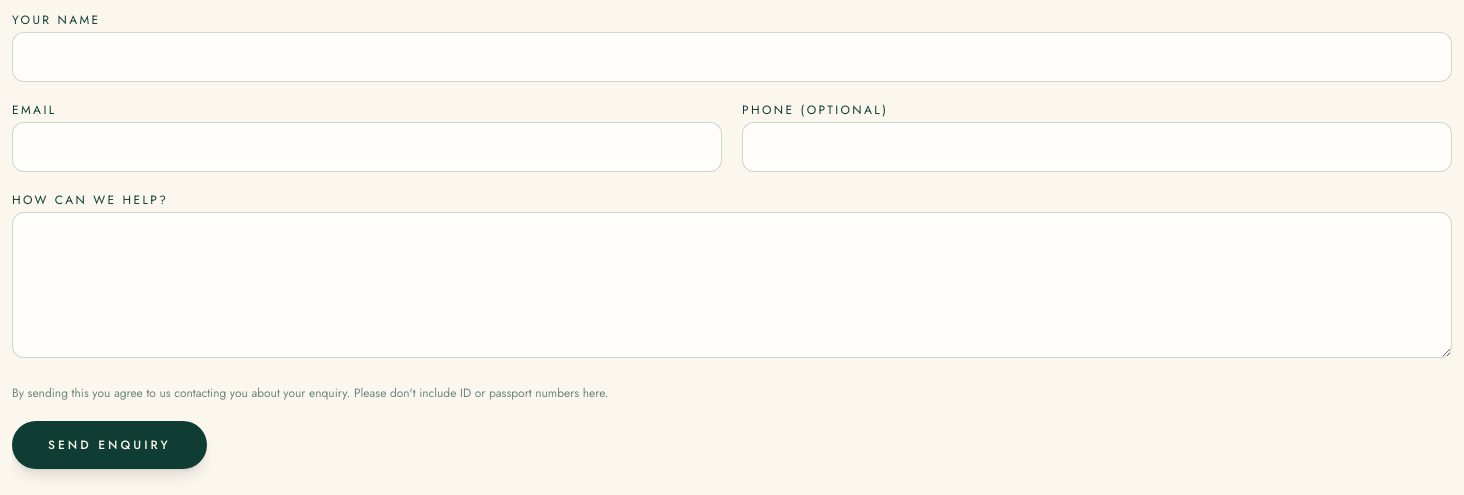
Test: shows a thank-you message after a successful send
In the field labelled "Your name": (732, 57) [12,32,1452,82], type "Jane Doe"
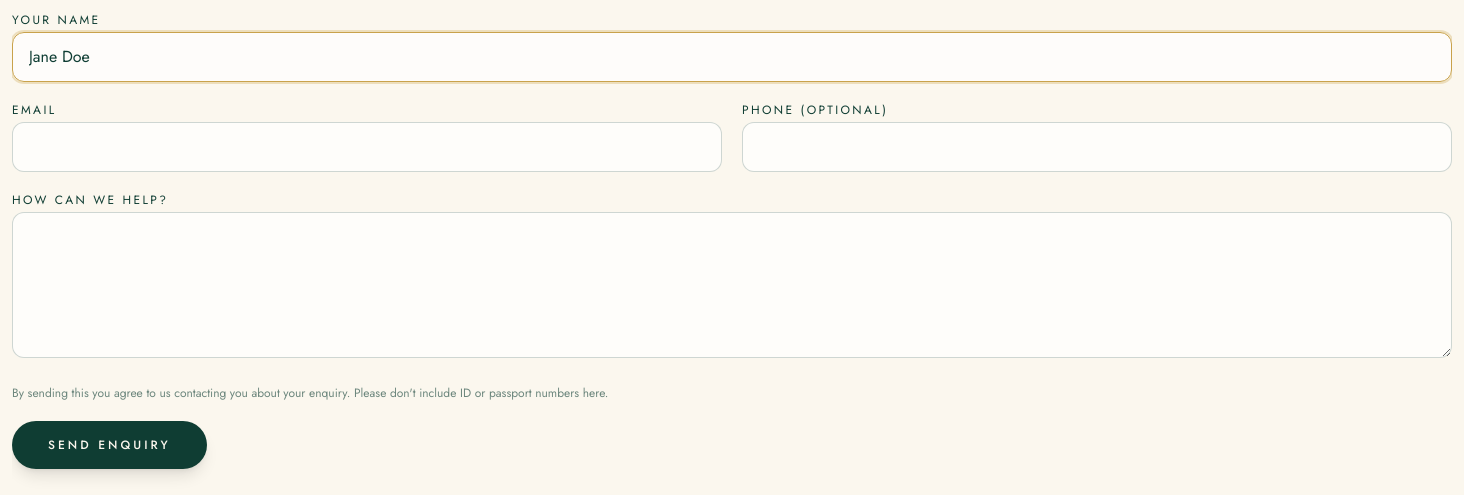
In the field labelled "Email": (367, 147) [12,122,722,172], type "jane@example.com"
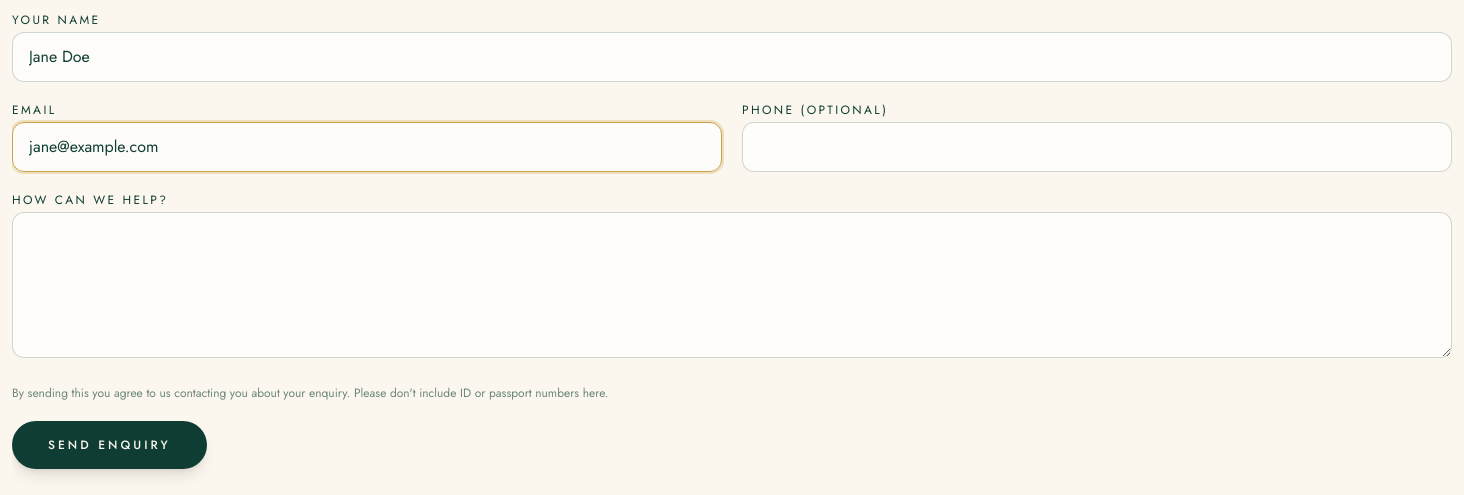
In the text box labelled "How can we help?": (732, 285) [12,212,1452,358], type "I would like to book flights."
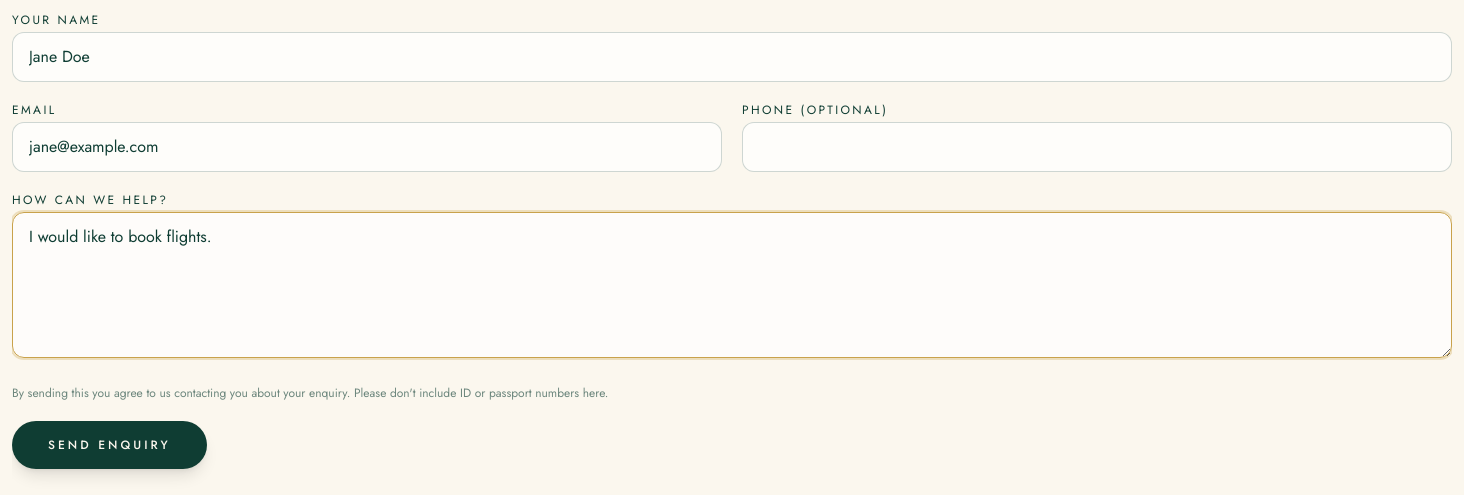
Click the button "Send enquiry": (109, 445) [12,421,207,469]
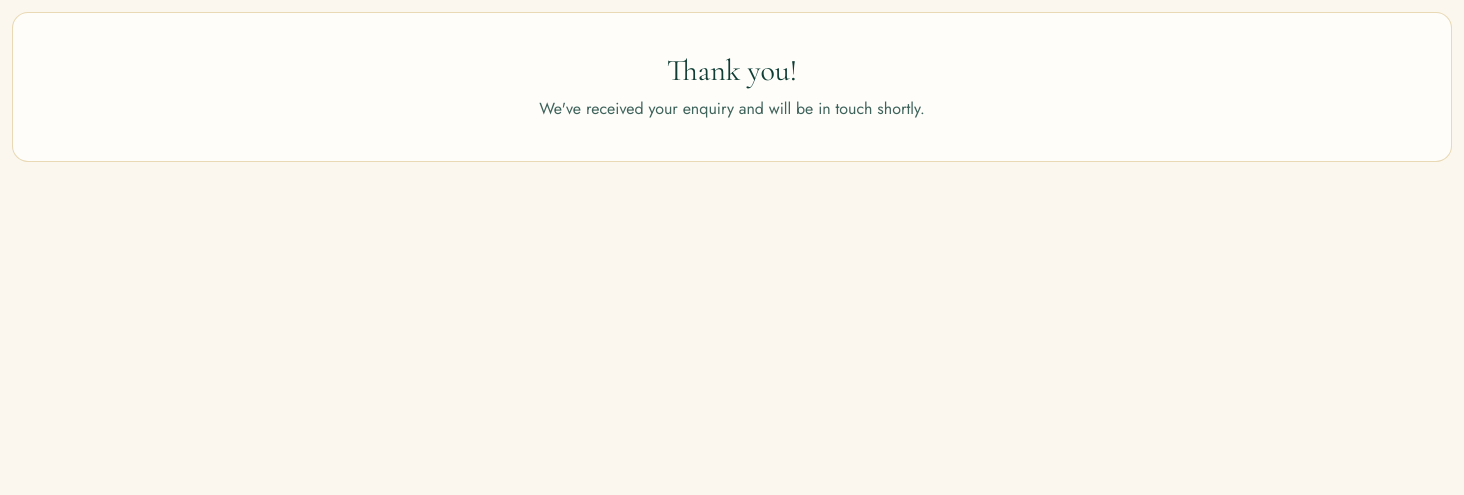
Expected: the text "Thank you!" is shown, [667,52,797,89]
